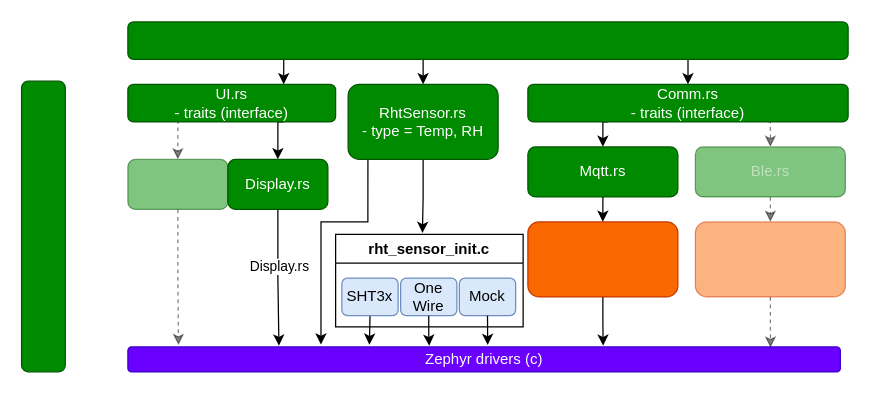
The diagram is 871 pixels wide and 394 high, and some of its shapes have lost their labels. Each missing label, with the centre of its shape:
Application.rs: pixel 487 40
BarGraph.rs: pixel 177 183
Bluetooth.c: pixel 769 259
lib.rs - Creation of objects: pixel 42 226
WiFi.c: pixel 602 259
